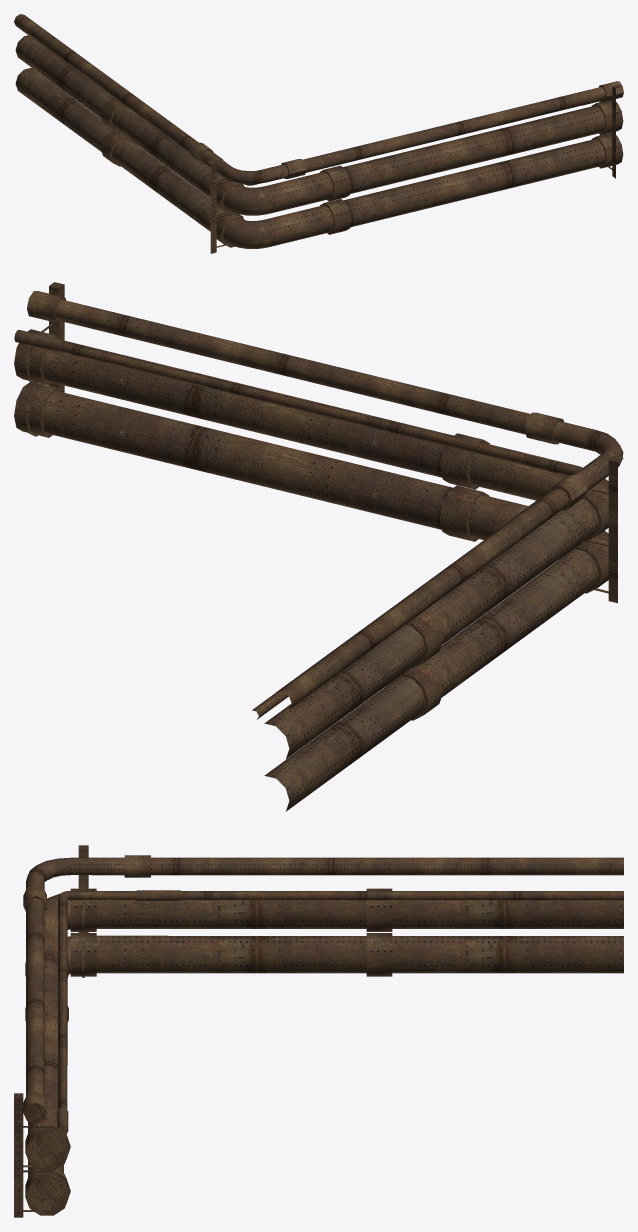
Rendered from pipeset08d_corner128r_001a.glb.
3 views of the same model, one above another, from view 1: azimuth 30°, elevation 25°; view 2: azimuth 150°, elevation 25°; view 3: azimuth 270°, elevation 25° (orthographic). The views are drawn at different scales.
Parts seen in each view (by area): view 1: 0_pipeset_metal; view 2: 0_pipeset_metal; view 3: 0_pipeset_metal.
Boxes of the visible parts, left/top/right/bottom form: 0_pipeset_metal: left=14, top=14, right=623, bottom=253; 0_pipeset_metal: left=14, top=282, right=623, bottom=811; 0_pipeset_metal: left=14, top=845, right=623, bottom=1217.
Size of the model in its own units: 3.25 by 0.7112 by 3.28.
1 material, 1 textured.
